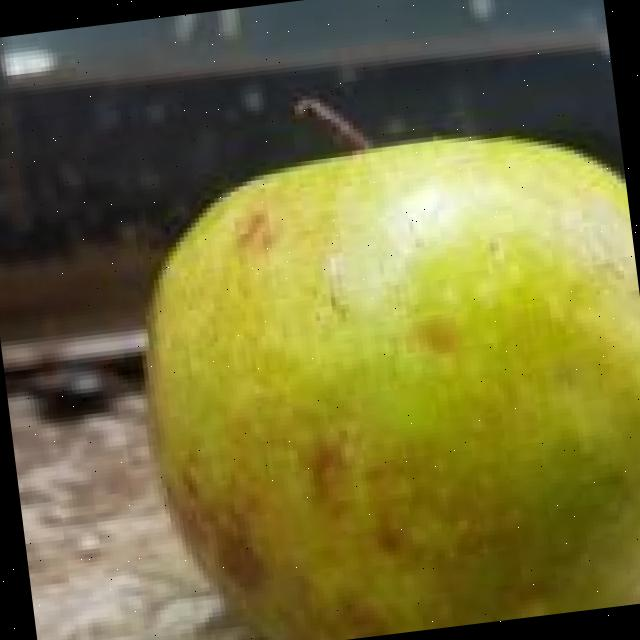Good_Apple 10-21 days: (151, 140, 640, 640)
